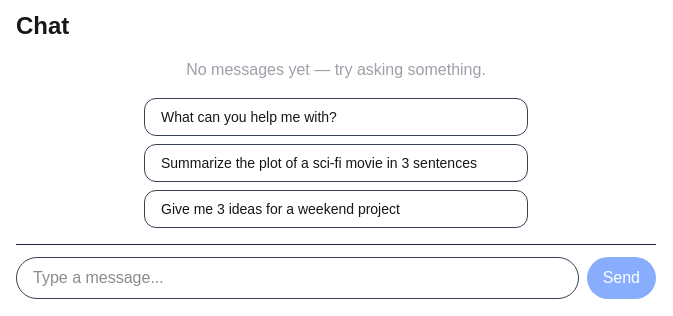
ChatPage — empty state › fills the input when an example prompt is clicked
The image size is (673, 316).
Click the button "What can you help me with?".
click(336, 117)  # box [144, 98, 528, 136]
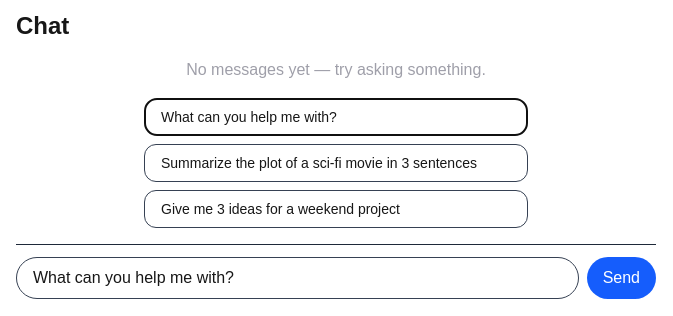
expect the field named "chat message" holds "What can you help me with?": met, box [16, 257, 579, 299]
